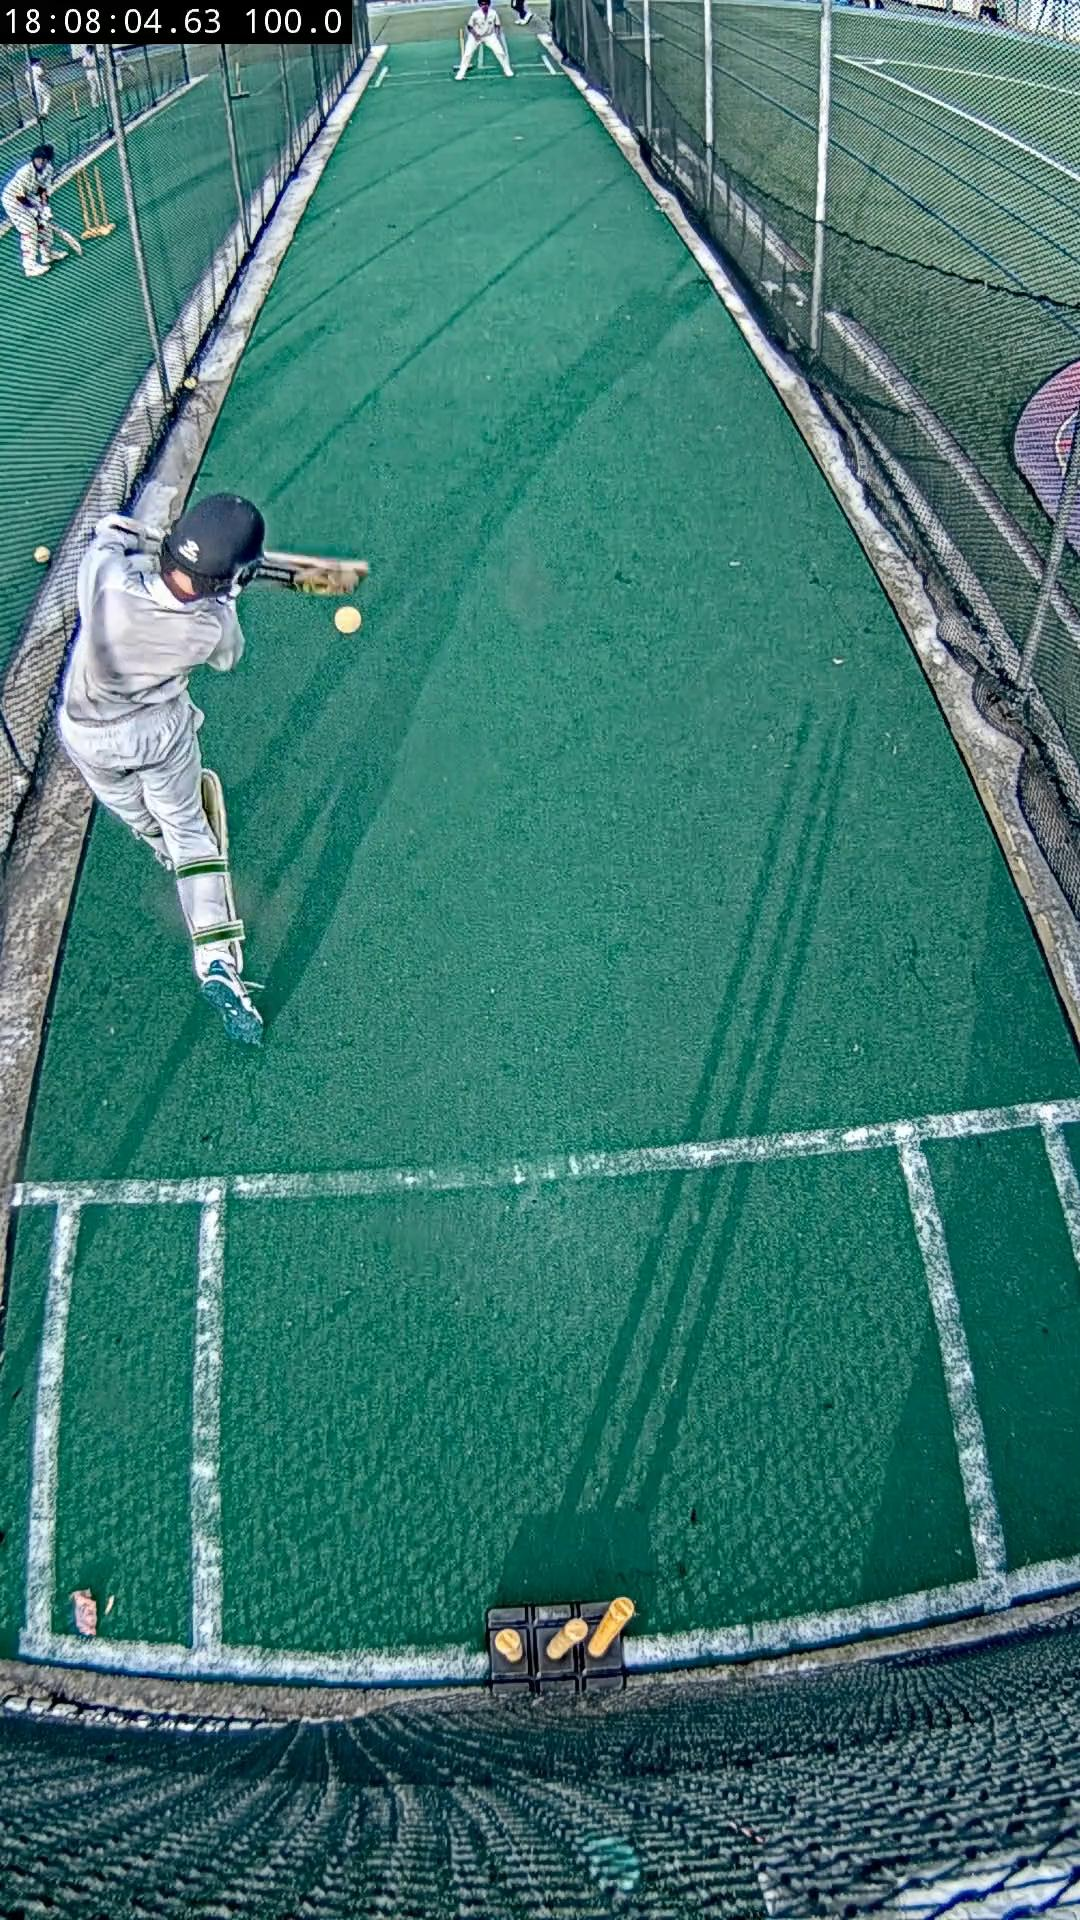ball: (334, 608, 360, 634)
bat: (255, 551, 368, 596)
helmet: (161, 492, 266, 596)
pads: (199, 769, 228, 864)
stumps: (488, 1597, 634, 1695)
